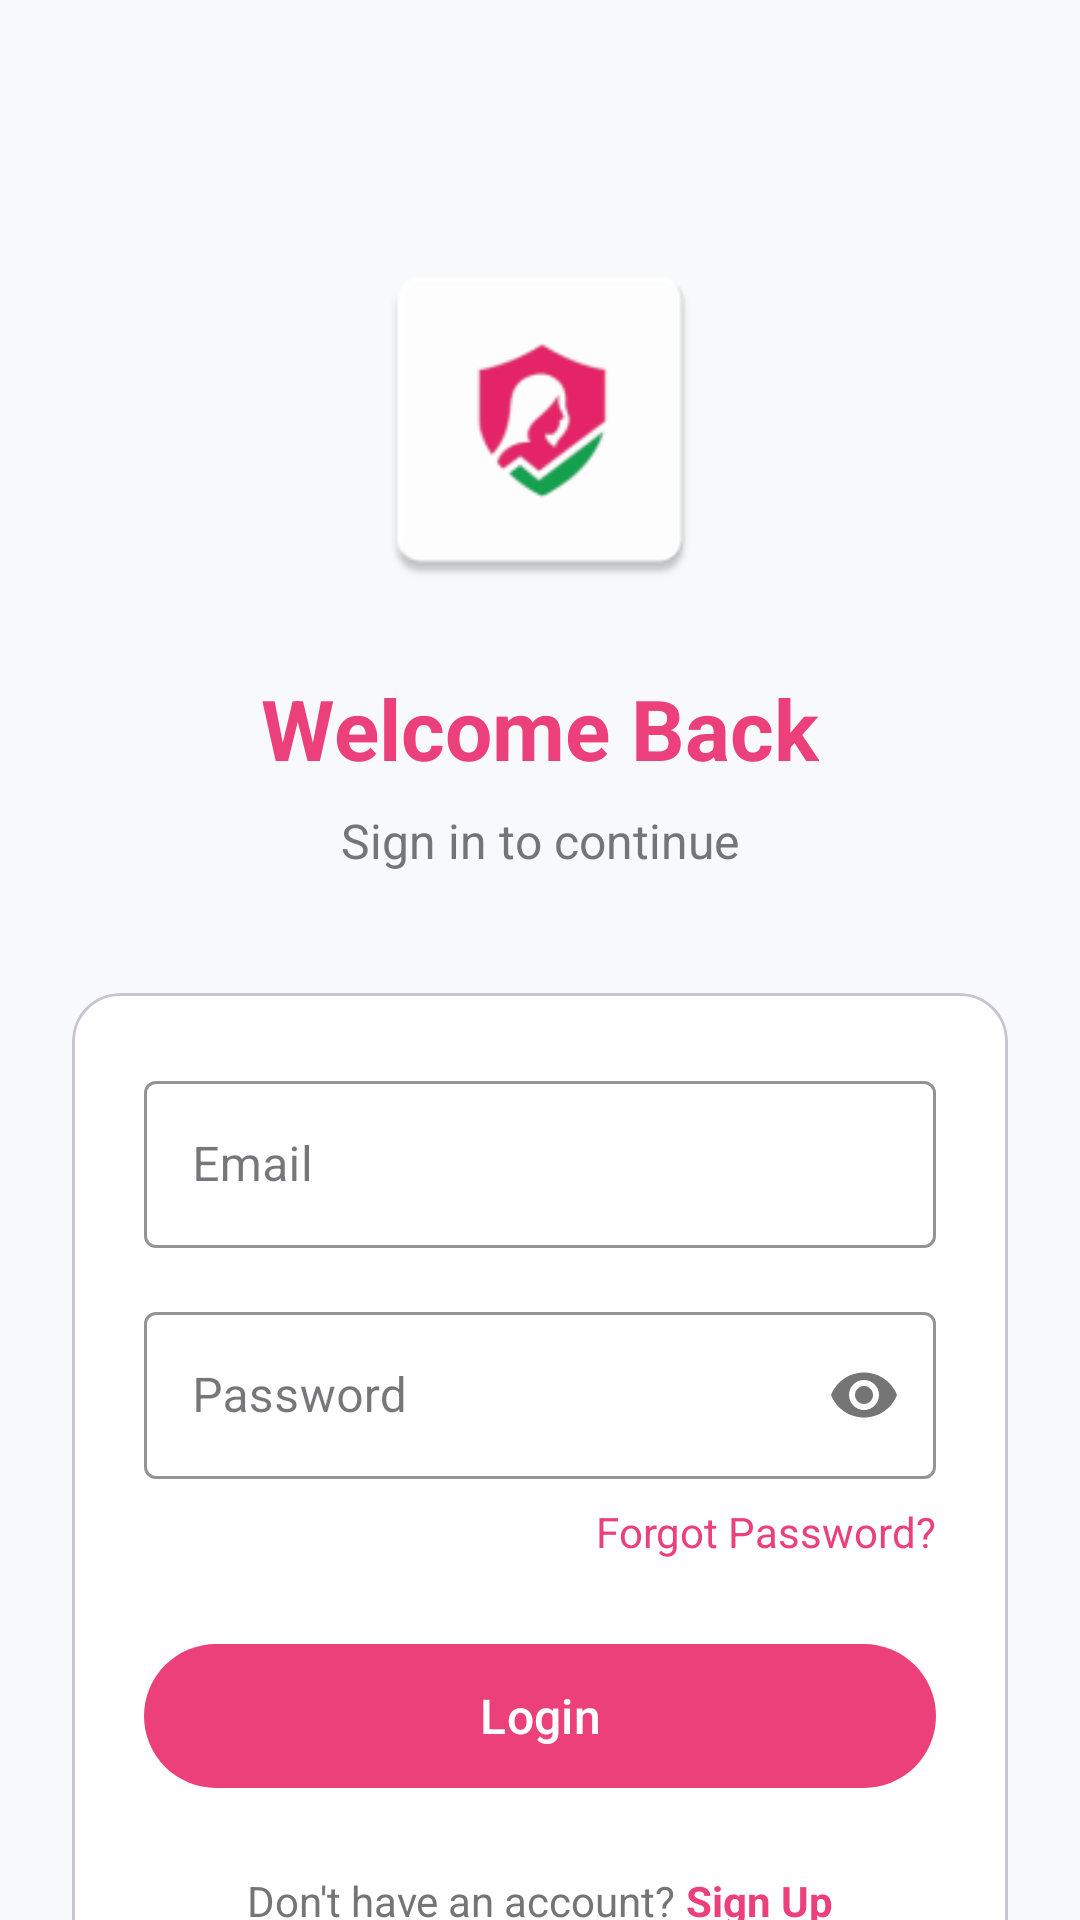

Where icons sit on this 1080px×1920px app screen, as (x1, y1, x2, y2):
appicon: (398, 294, 684, 571)
